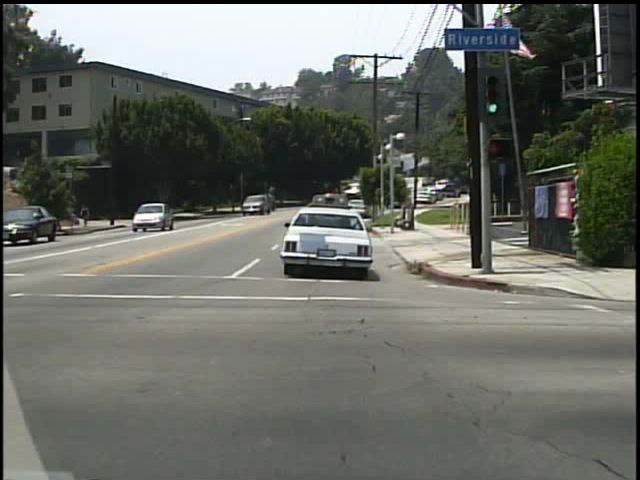person: (80, 203, 93, 227)
